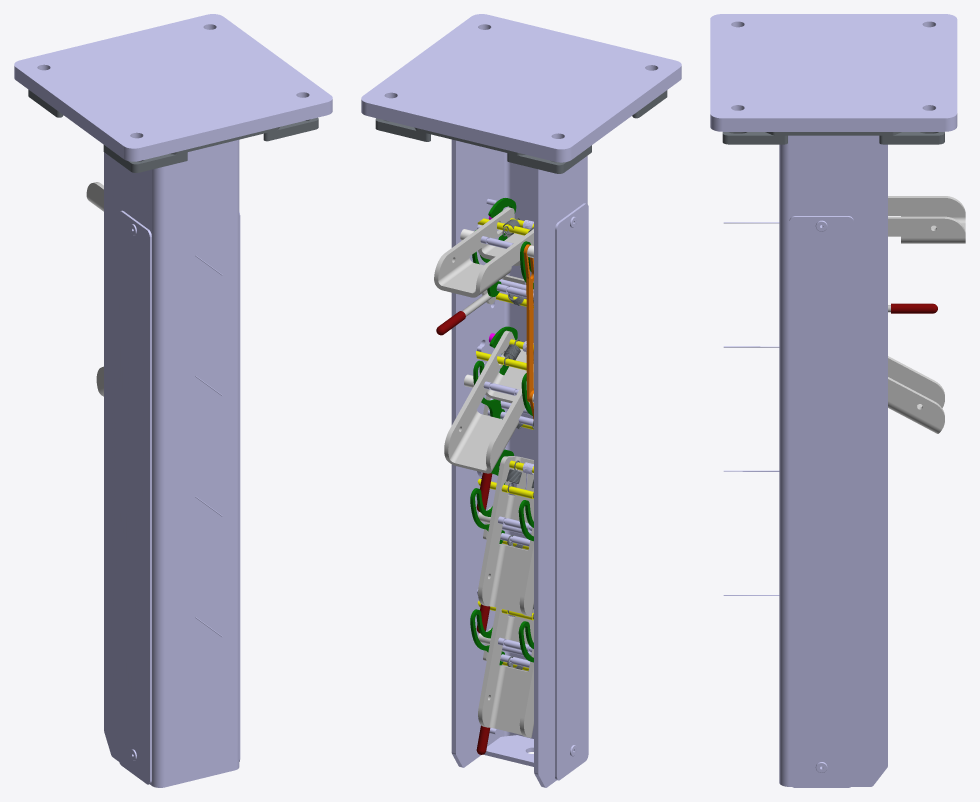
File: Sin nombre-AGR_V1_POS1.gltf
The picture shows the model from 3 angles, left to right: view 1: azimuth 30°, elevation 25°; view 2: azimuth 150°, elevation 25°; view 3: azimuth 270°, elevation 25°; orthographic projection. The views are drawn at different scales.
Visible parts, largest first — view 1: 25051-H, BASE_SUELO, 25051-A, BASE_REGULABLE, 25051-A001; view 2: 25051-H, BASE_SUELO, 25051-A, 25051-F001, 25051-F003, 25051-F002, 25051-F, BASE_REGULABLE, 25051-G, 25051-O, 25051-E, 25051-G008 (+2 smaller); view 3: 25051-A001, 25051-H, BASE_SUELO, 25051-F, 25051-F001, BASE_REGULABLE, 25051-E.
Part boxes in pixels (x1,y1,x2,y2): 25051-H: (104,139,239,787); BASE_SUELO: (14,14,332,161); 25051-A: (118,210,151,784); BASE_REGULABLE: (28,89,318,172); 25051-A001: (239,212,240,761); 25051-H: (451,139,587,787); BASE_SUELO: (361,14,681,162); 25051-A: (555,203,588,780); 25051-F001: (444,330,533,473); 25051-F003: (478,456,533,616); 25051-F002: (478,607,533,737); 25051-F: (434,207,533,297); BASE_REGULABLE: (375,90,667,173); 25051-G: (523,244,533,402); 25051-O: (483,735,533,766); 25051-E: (436,275,533,335); 25051-G008: (473,326,517,419); 25051-A001: (789,216,853,787); 25051-H: (779,135,887,786); BASE_SUELO: (710,14,957,131); 25051-F: (888,196,965,243); 25051-F001: (888,356,944,433); BASE_REGULABLE: (722,132,944,144); 25051-E: (888,303,937,313).
Bounding box in the file's own units: 0.2 × 0.6245 × 0.207.
